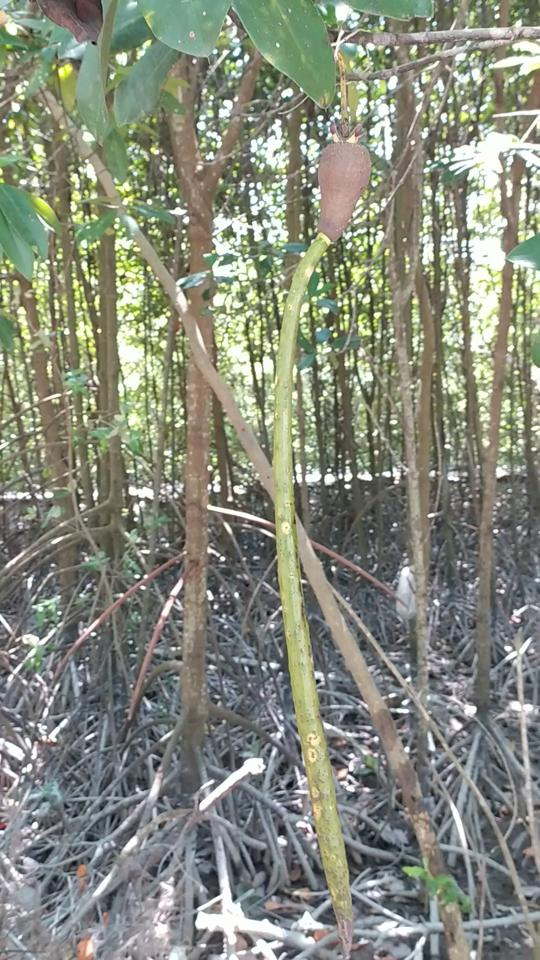setengah matang: (268, 129, 400, 955)
